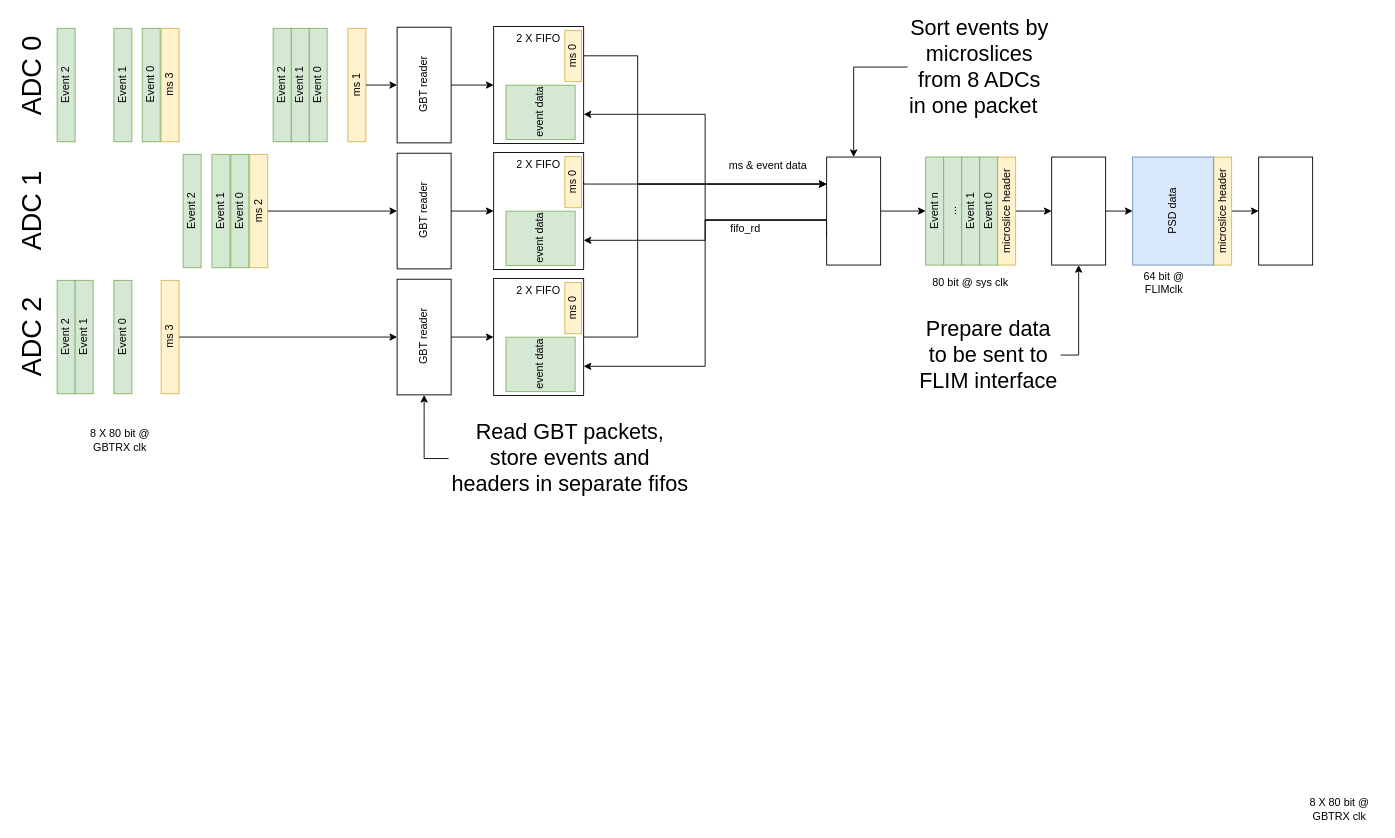
Image size: 1395x838. Some labels were removed from this diagram. Here are the shapes that lost their labels. From the top down, the centre of each, then its label:
At point (853, 210): "Data sorter".
At point (1078, 210): "format converter".
At point (1285, 210): "FLIM interface".
